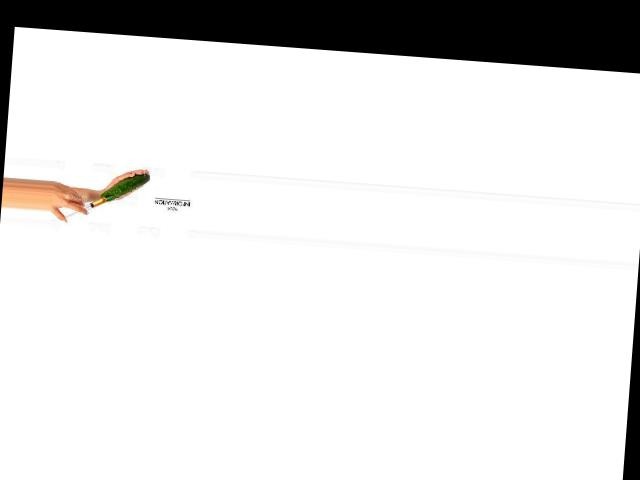cucumber: (100, 170, 149, 205)
